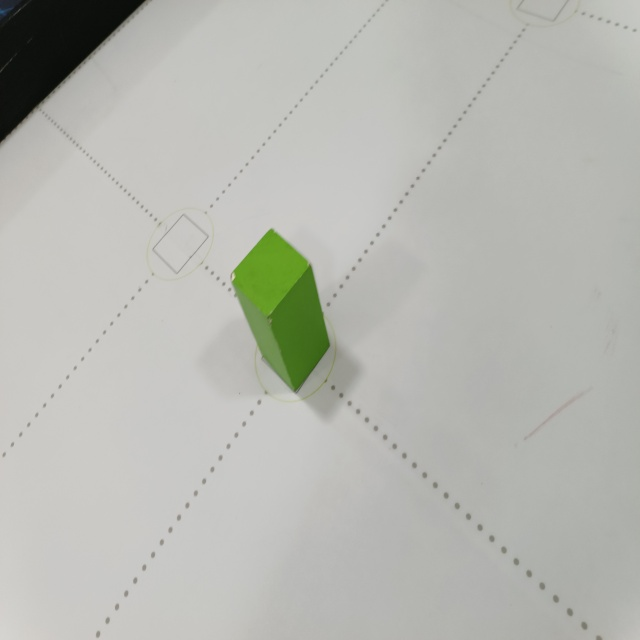green rectangular prism: (225, 227, 339, 398)
